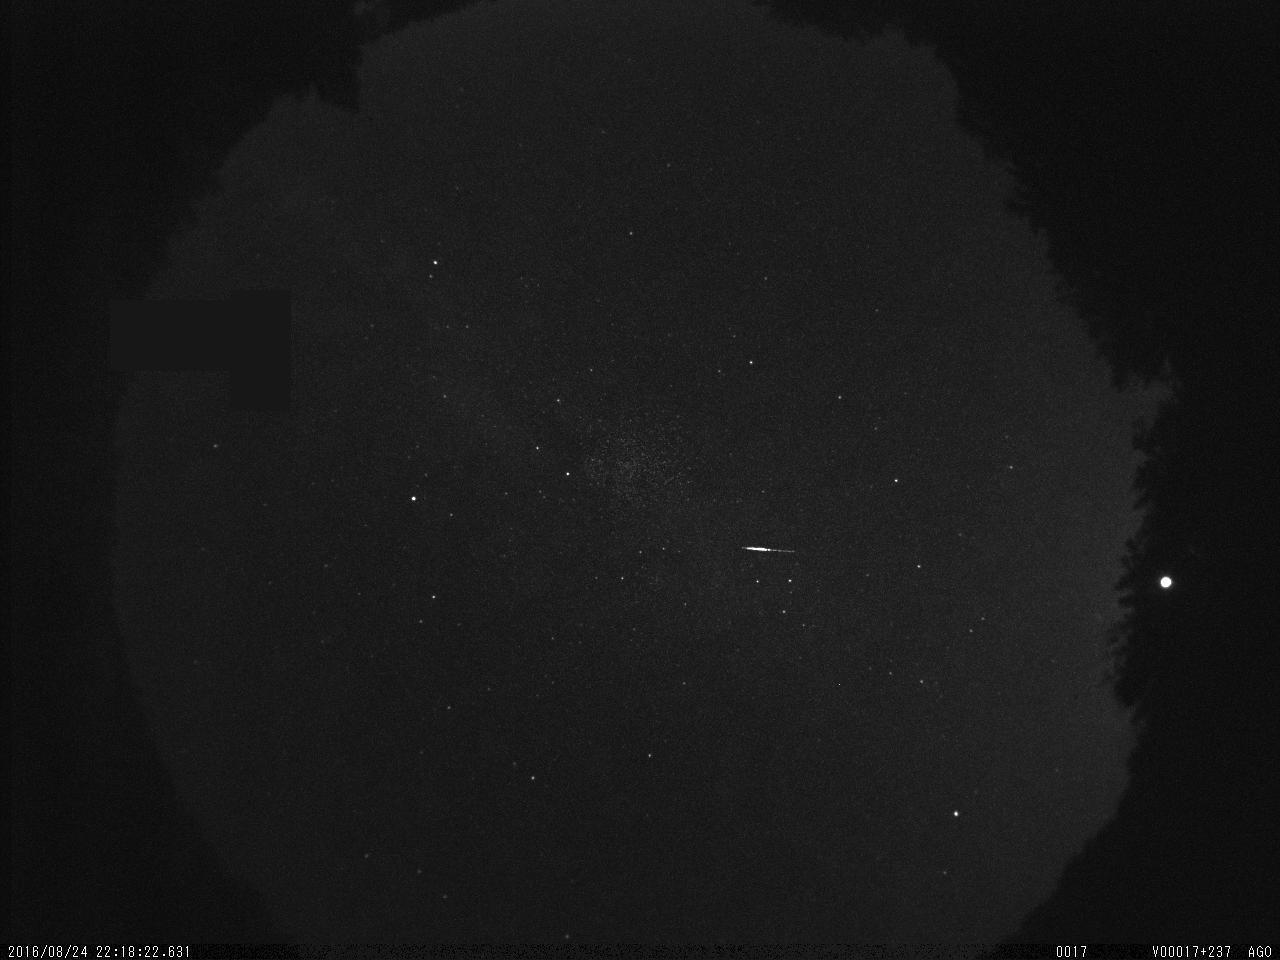Meteor: (740, 543, 802, 553)
